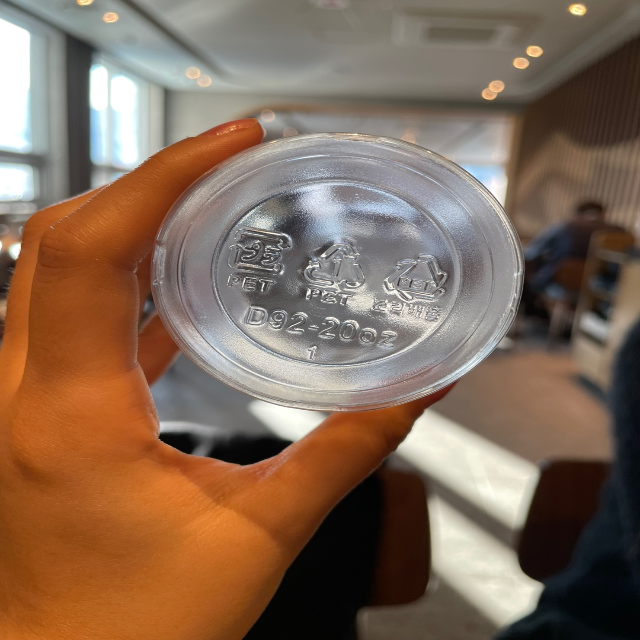pet: (368, 249, 454, 324), (220, 222, 294, 295), (302, 234, 368, 307)
